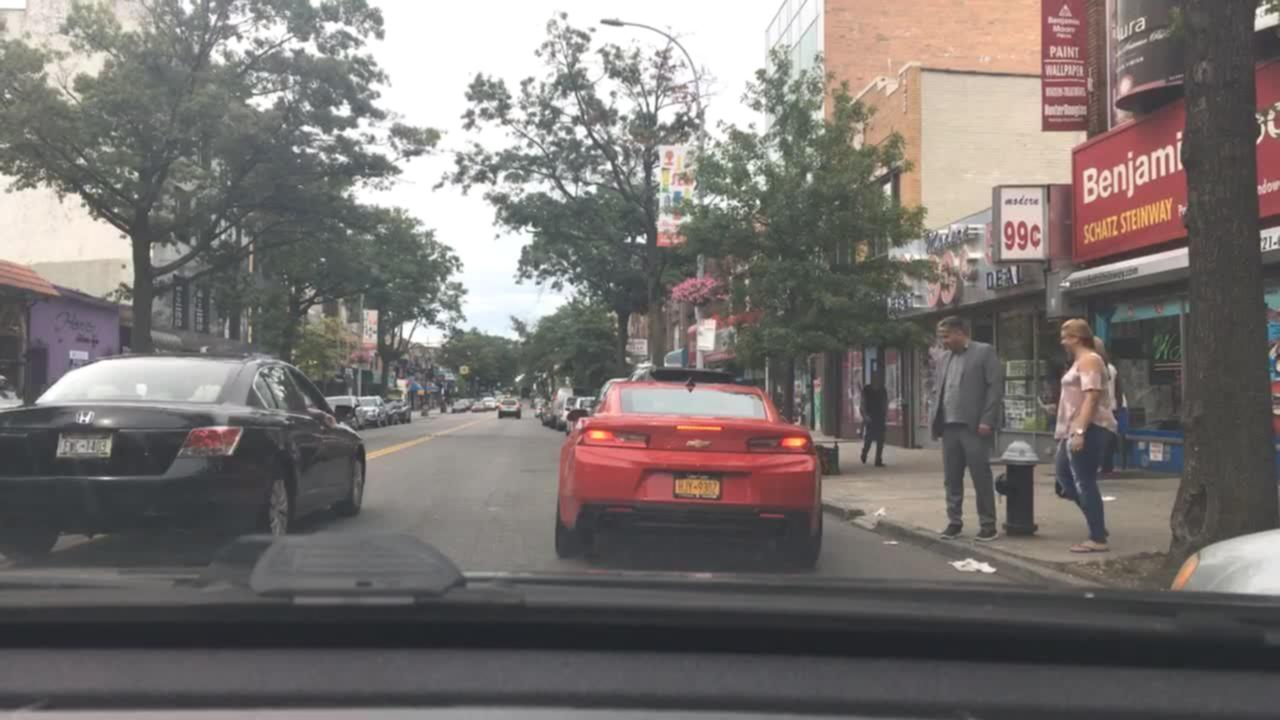Honda: (70, 408, 97, 429)
chevrolet: (673, 433, 724, 457)
